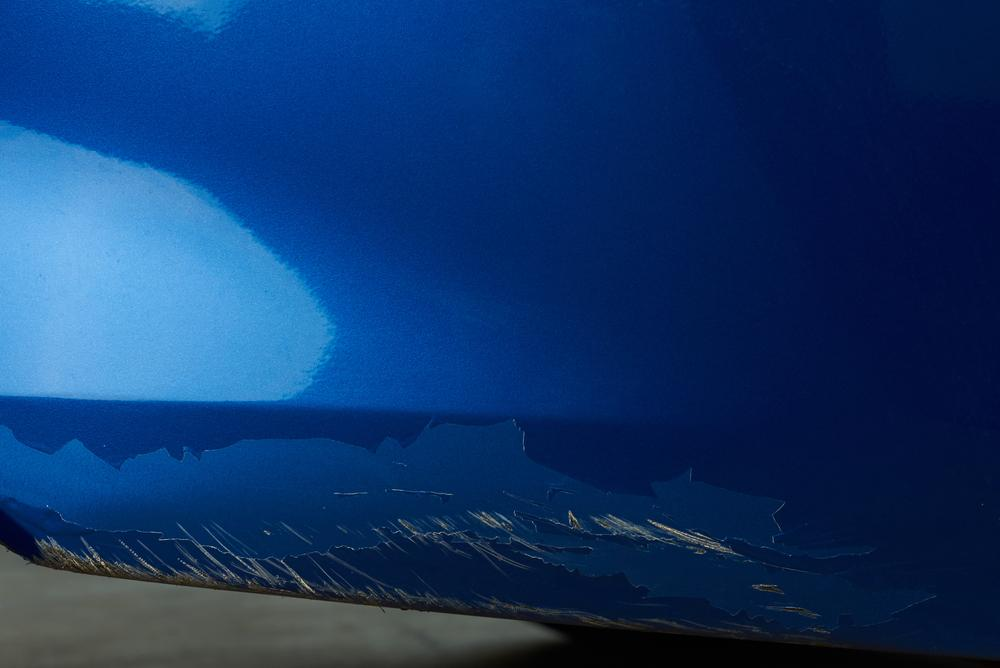scratch: (32, 480, 846, 646)
